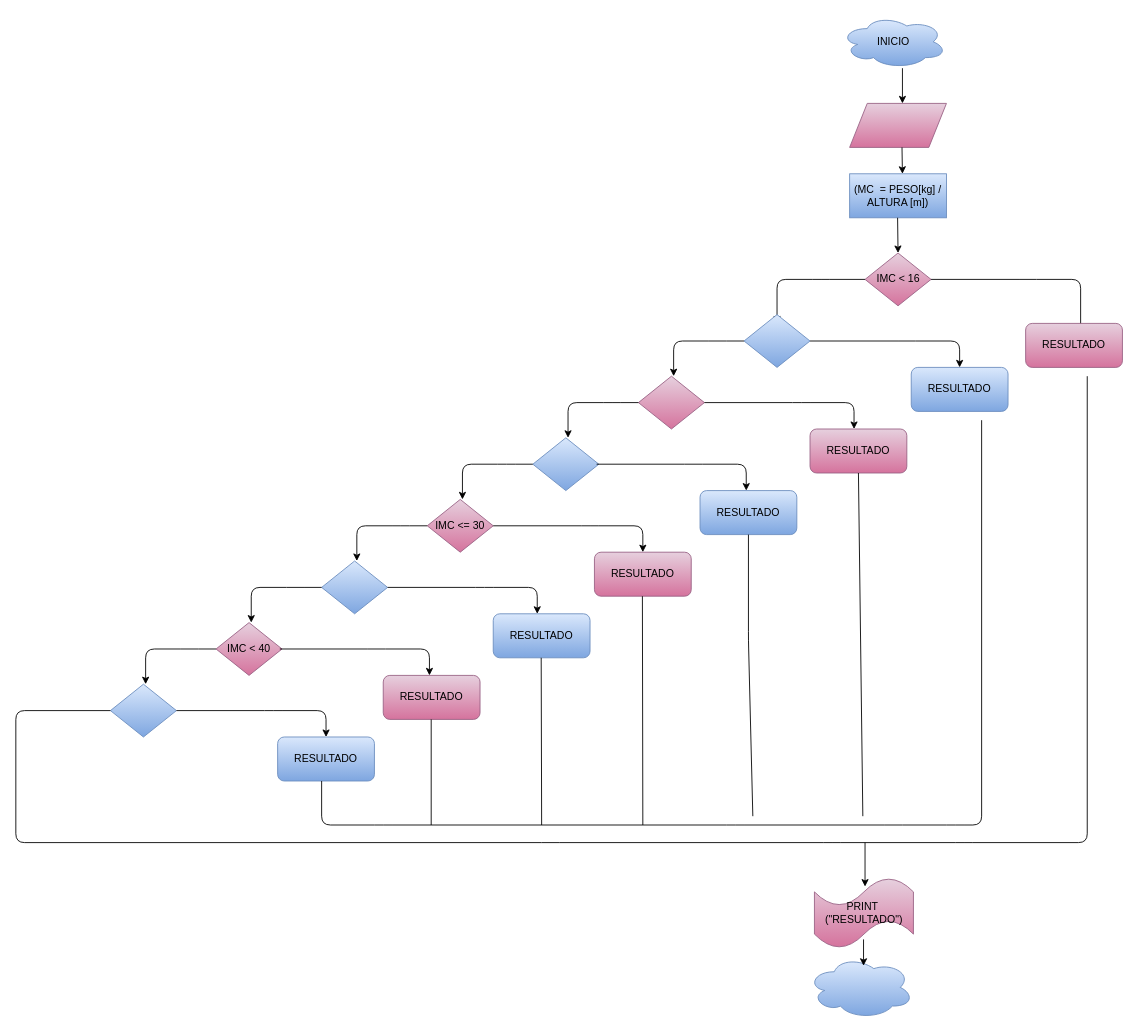
Some shapes in this 1138 by 1034 pixel diagram are drawn without their labels. The centre of each missing label's shape, as x and y in pixels:
FIN: [860,987]
IMC <= 17: [776,340]
IMC <= 18: [671,402]
IMC <= 25: [565,464]
IMC <= 35: [354,587]
IMC > 40: [143,710]
PESO, ALTURA: [897,125]
